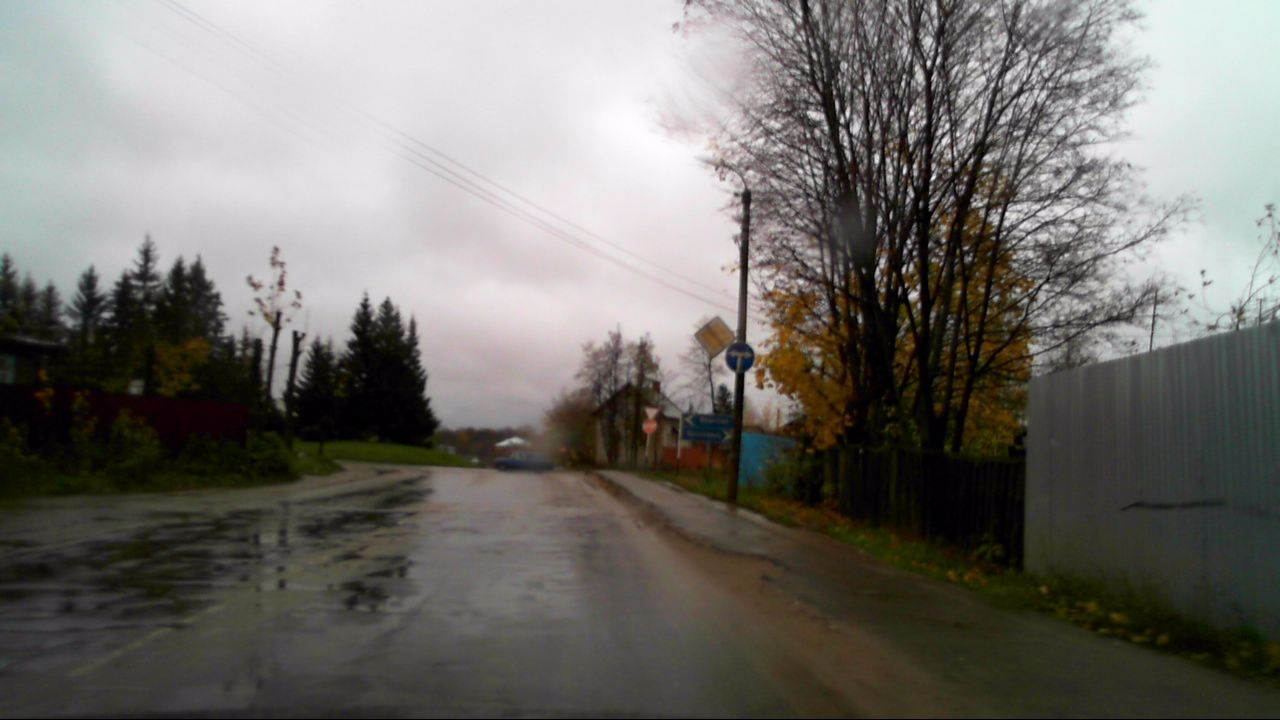main road: (694, 316, 737, 358)
